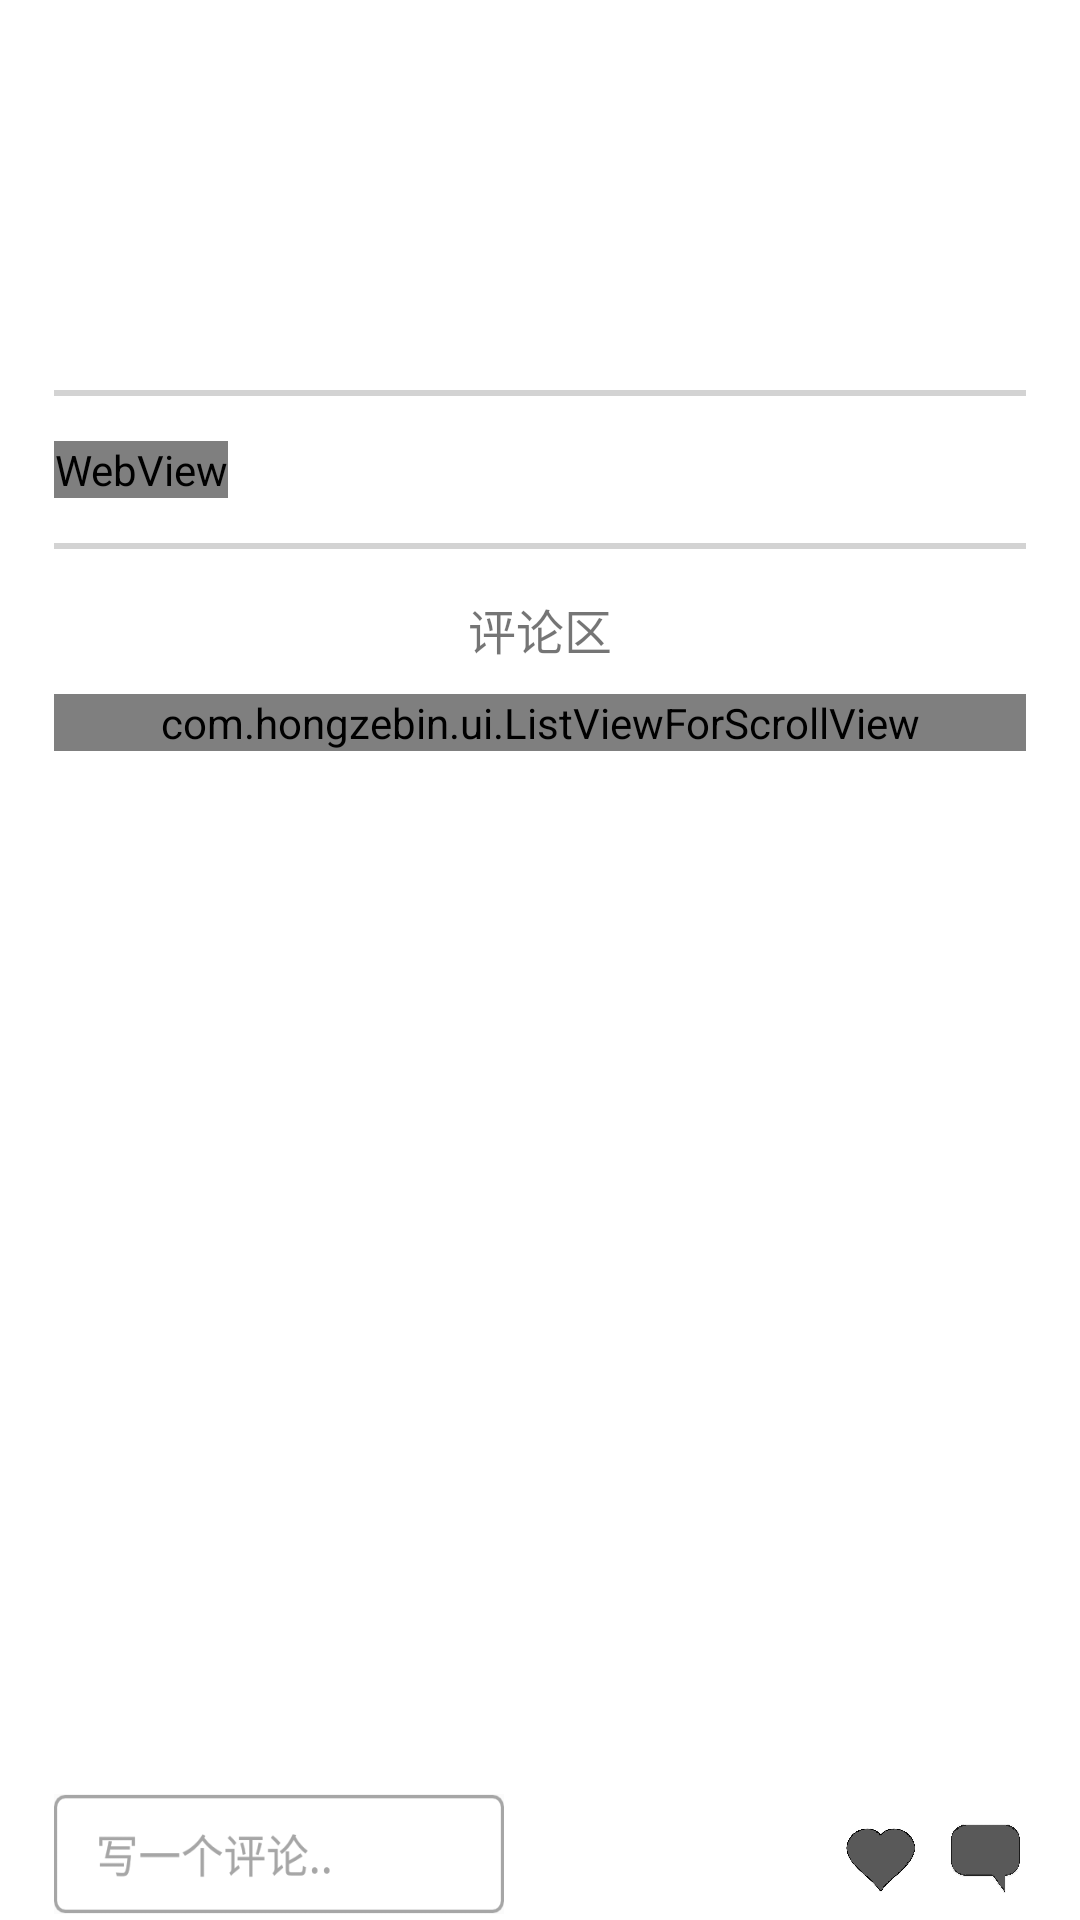

Named icons in this screenshot (1080 x 1920) and their bounding boxes, region(x1, y1, x2, y2):
collect: region(846, 1828, 915, 1891)
pinlun: region(951, 1824, 1020, 1893)
